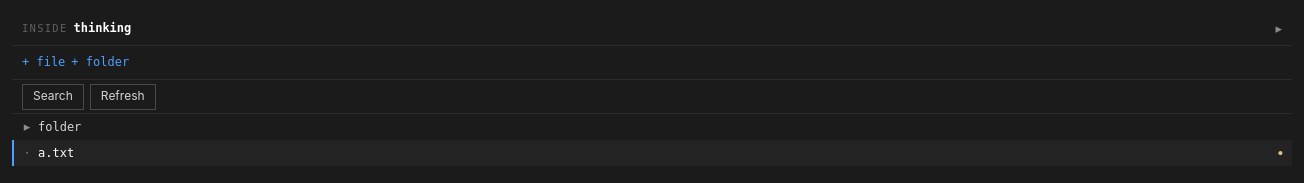
Scenario: Escape returns focus to Search and hidden tree targets stay hidden during search
Step 1. Click the button "Search" → (53, 96), box [22,84,84,110]
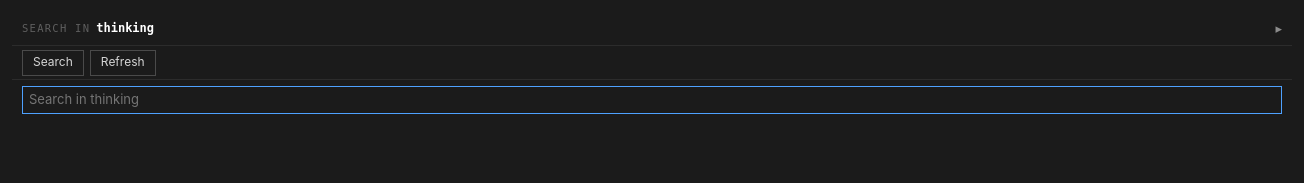
Step 2. Press Escape in the search field with placeholder "Search in thinking", box [22,86,1282,114]
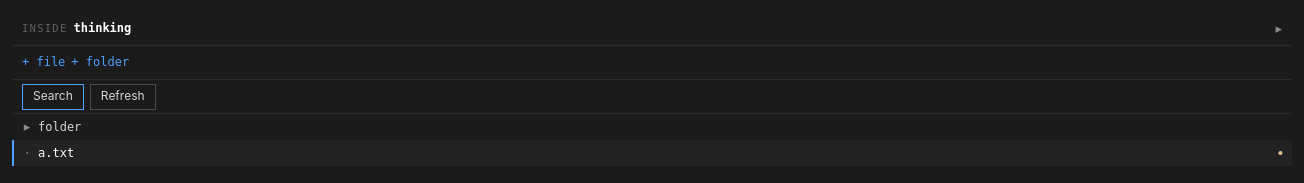
Now the search field is gone
